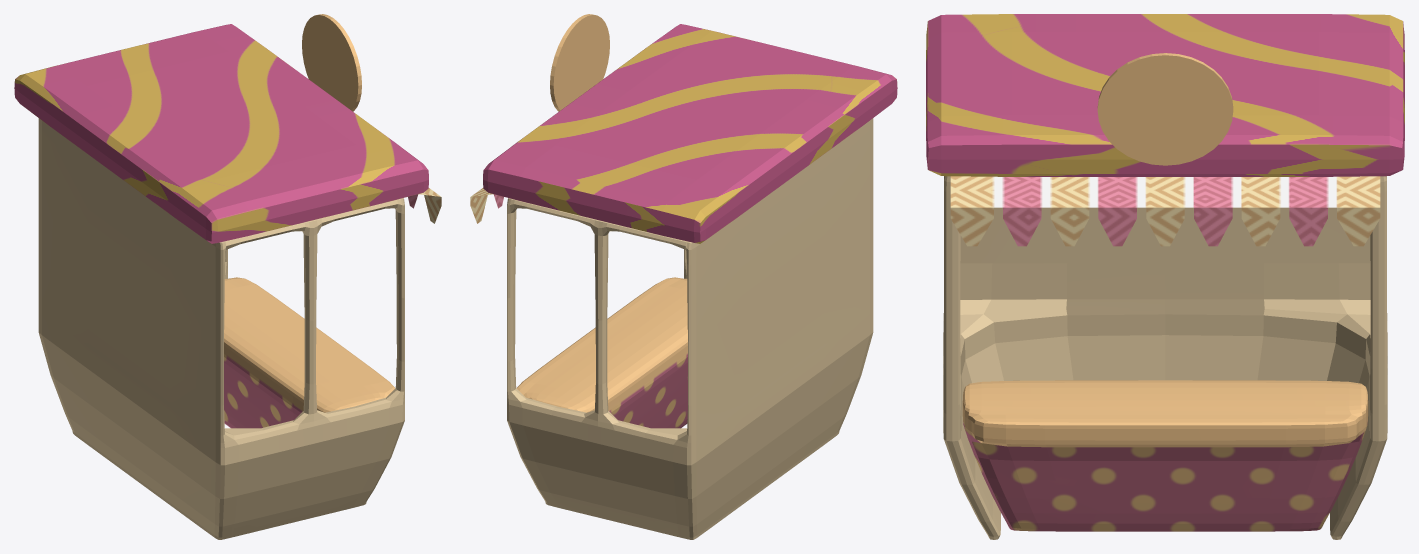
Rendered from Booth 1-2.fbx.
3 renders of one model, left to right at view 1: azimuth 30°, elevation 25°; view 2: azimuth 150°, elevation 25°; view 3: azimuth 270°, elevation 25°, orthographic. The views are drawn at different scales.
Parts seen in each view (by area): view 1: Cube, Cube.003, Cube.002, Cylinder, Plane; view 2: Cube, Cube.003, Cube.002, Cylinder, Plane; view 3: Cube, Cube.003, Cube.002, Plane, Cylinder.
Part boxes in pixels (box(x1,y1,x2,y2)): Cube: box(38, 118, 404, 539); Cube.003: box(14, 24, 428, 243); Cube.002: box(224, 277, 395, 428); Cylinder: box(302, 14, 361, 111); Plane: box(408, 188, 441, 223); Cube: box(507, 118, 873, 539); Cube.003: box(483, 24, 897, 243); Cube.002: box(516, 277, 687, 428); Cylinder: box(550, 14, 609, 111); Plane: box(470, 188, 503, 223); Cube: box(943, 176, 1387, 539); Cube.003: box(926, 14, 1404, 176); Cube.002: box(962, 380, 1368, 531); Plane: box(950, 176, 1380, 246); Cylinder: box(1097, 53, 1233, 165).
Bounding box in the file's own units: 1012 × 1708 × 1456.
1 material, 1 textured.
